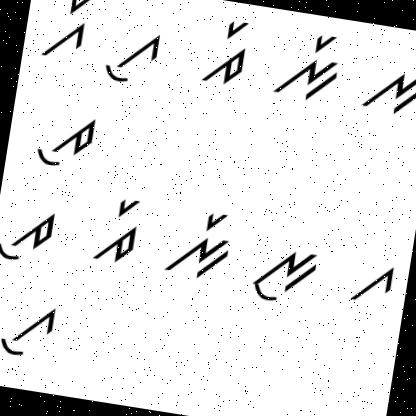ga: (340, 258, 400, 314)
gar: (35, 0, 98, 66)
gaw: (98, 16, 164, 90), (0, 294, 68, 363)
nga: (353, 55, 416, 127)
ngar: (158, 200, 238, 290), (265, 25, 348, 108)
ngaw: (245, 235, 326, 312)
tar: (196, 14, 260, 91), (90, 186, 148, 270)
taw: (24, 101, 106, 178), (0, 197, 61, 266)
